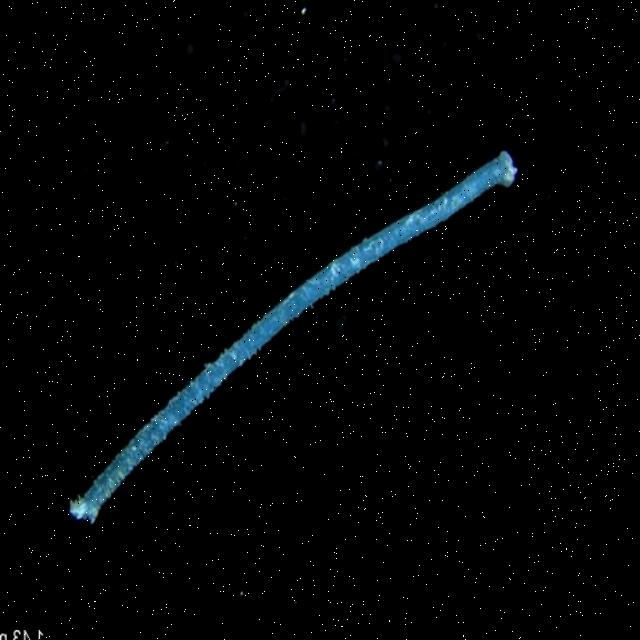Fibre: (64, 144, 524, 540)
